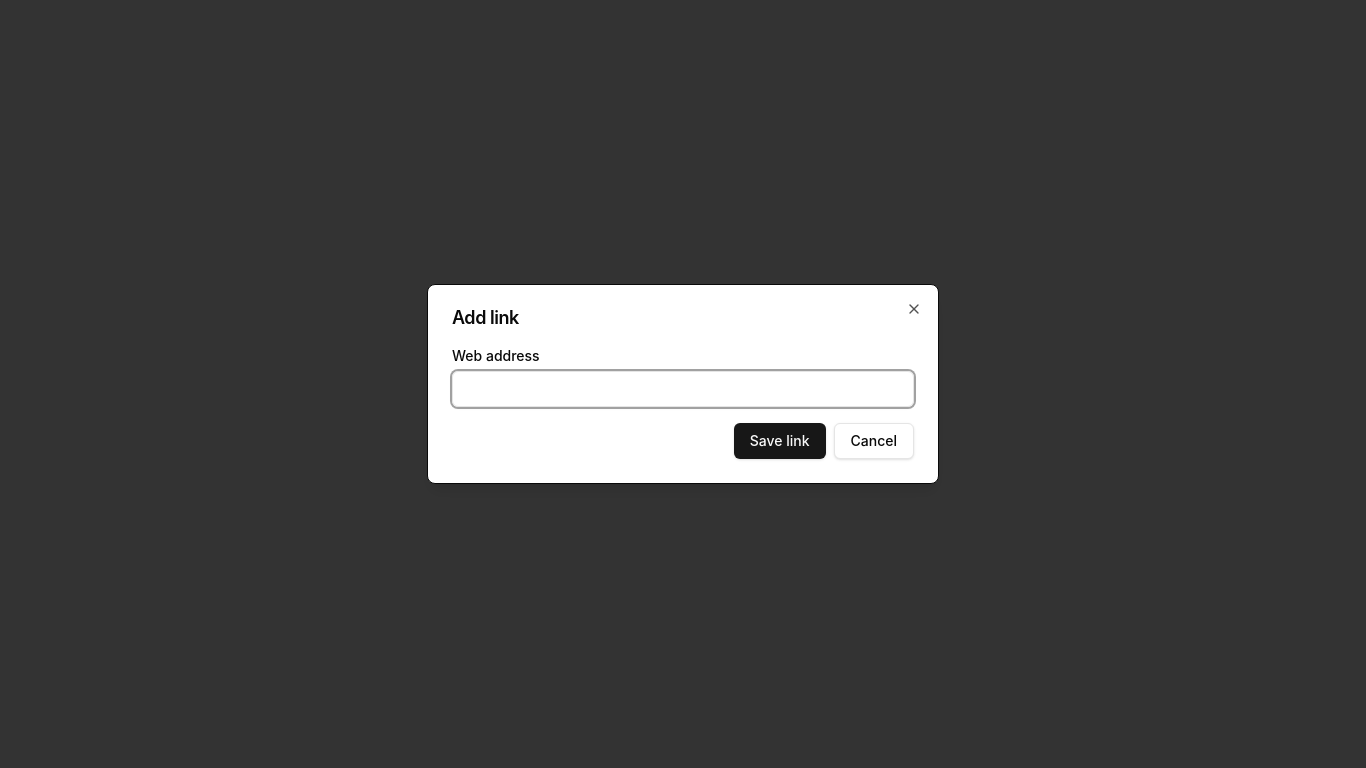
RichTextLinkDialog › refuses  with the message and keeps focus on the field
Click the button "Save link": (780, 441) [734,423,826,459]
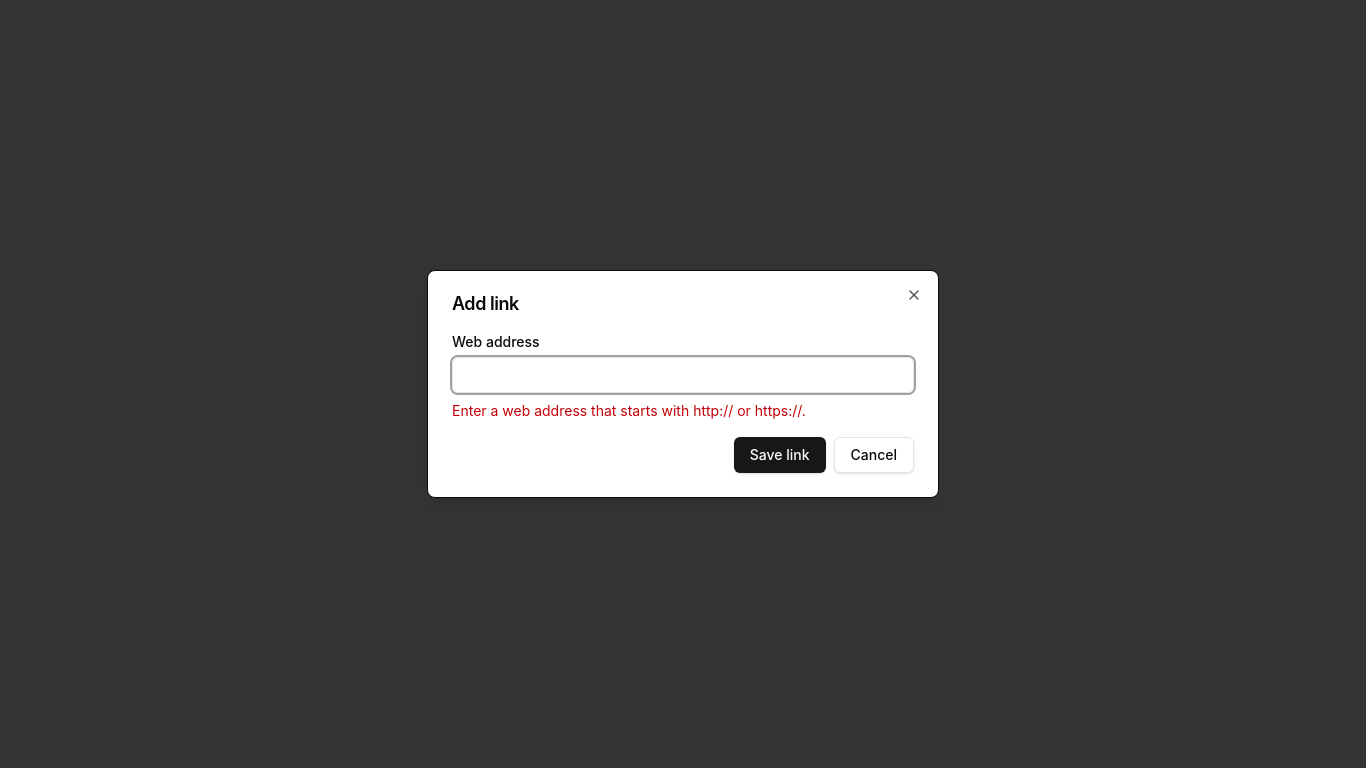
Expected: the text "Enter a web address that starts with http:// or https://." is shown, [452,402,806,419]
